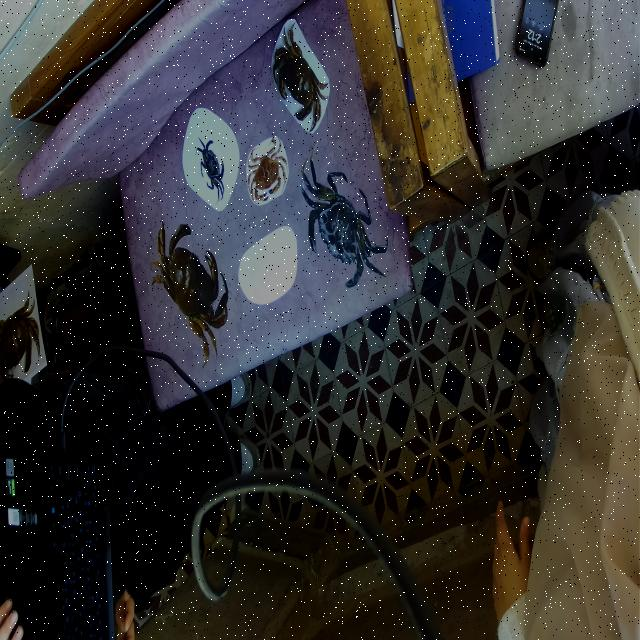European_Green_Crab: (284, 136, 402, 319), (190, 126, 233, 207)
